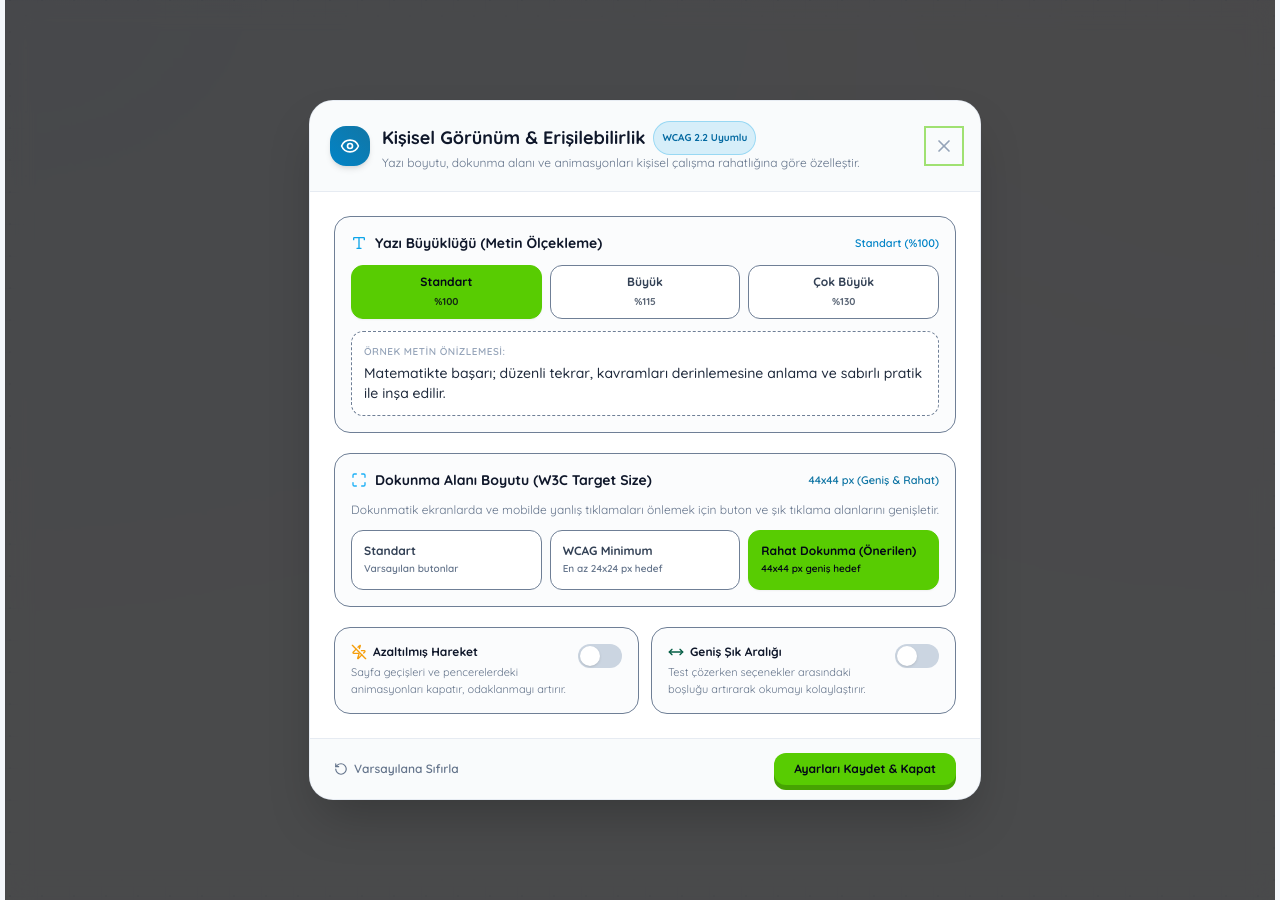
it: AccessibilitySettingsModal › updates font size setting when clicked
The image size is (1280, 900).
What coordinates should you click on to do the following:
click the button "Büyük %115"
I would click on:
 (645, 292)
Its box is [550, 265, 740, 319].
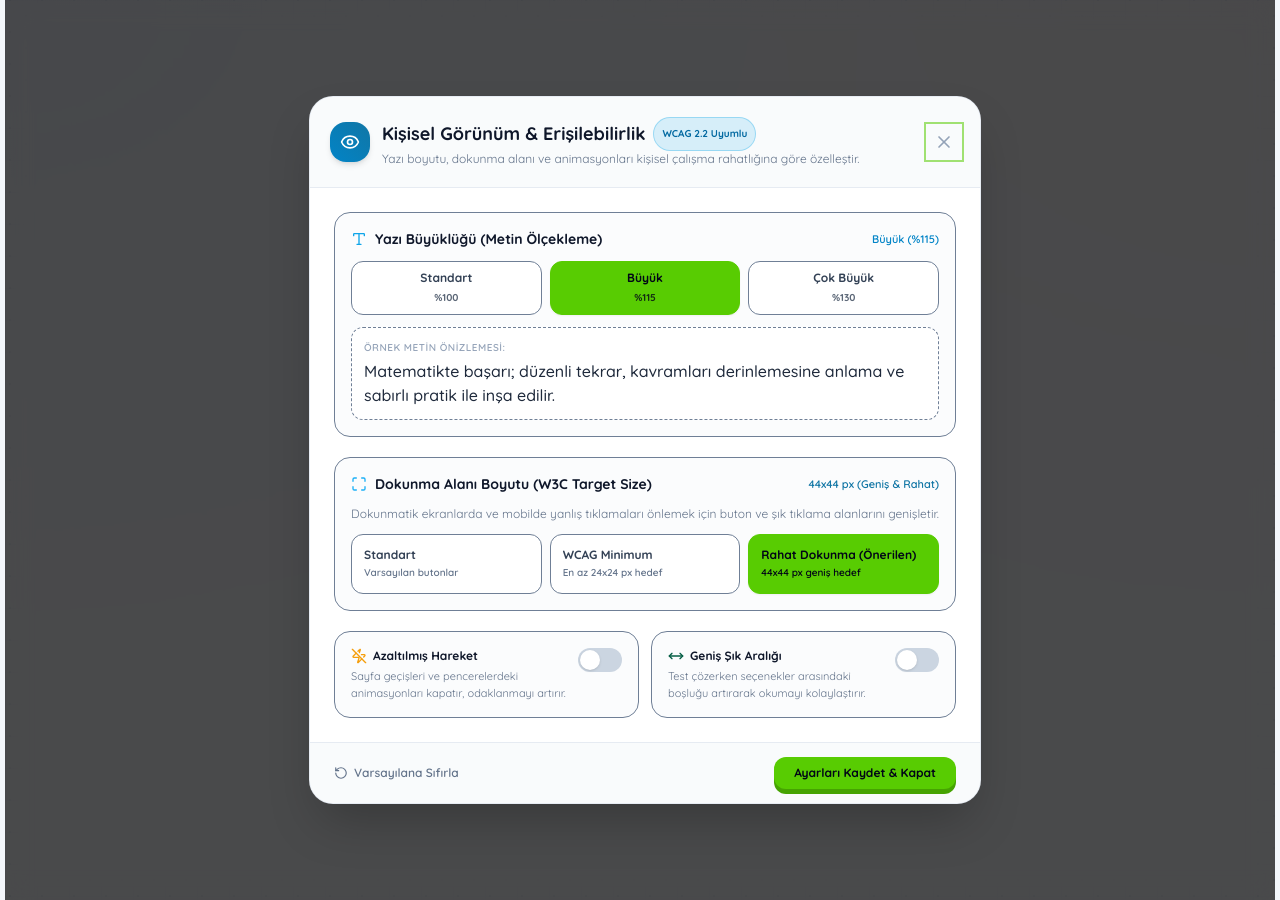
Expected: the text "Büyük (%115)" is shown, [872, 231, 939, 247]
